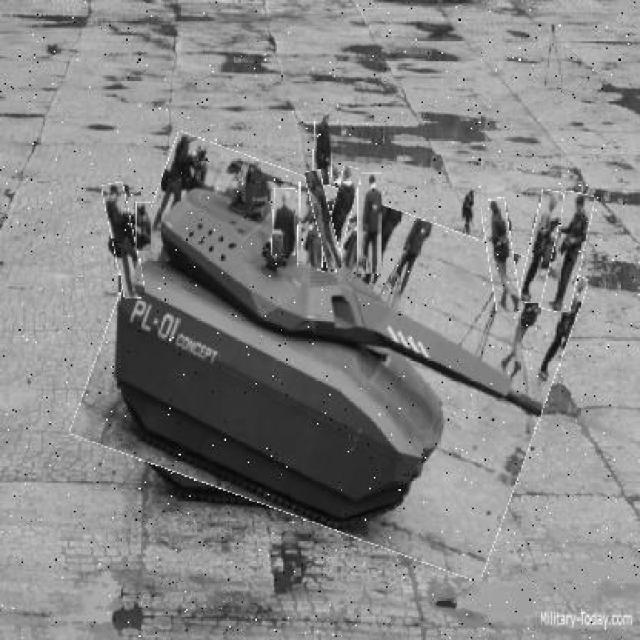Person: (547, 193, 590, 315), (524, 192, 560, 306), (109, 184, 143, 301), (487, 199, 520, 315), (326, 167, 357, 275), (312, 170, 339, 272), (358, 174, 384, 277), (298, 180, 326, 271), (273, 189, 298, 258), (315, 110, 333, 187), (137, 203, 154, 254)
Tank: (90, 164, 570, 550)
